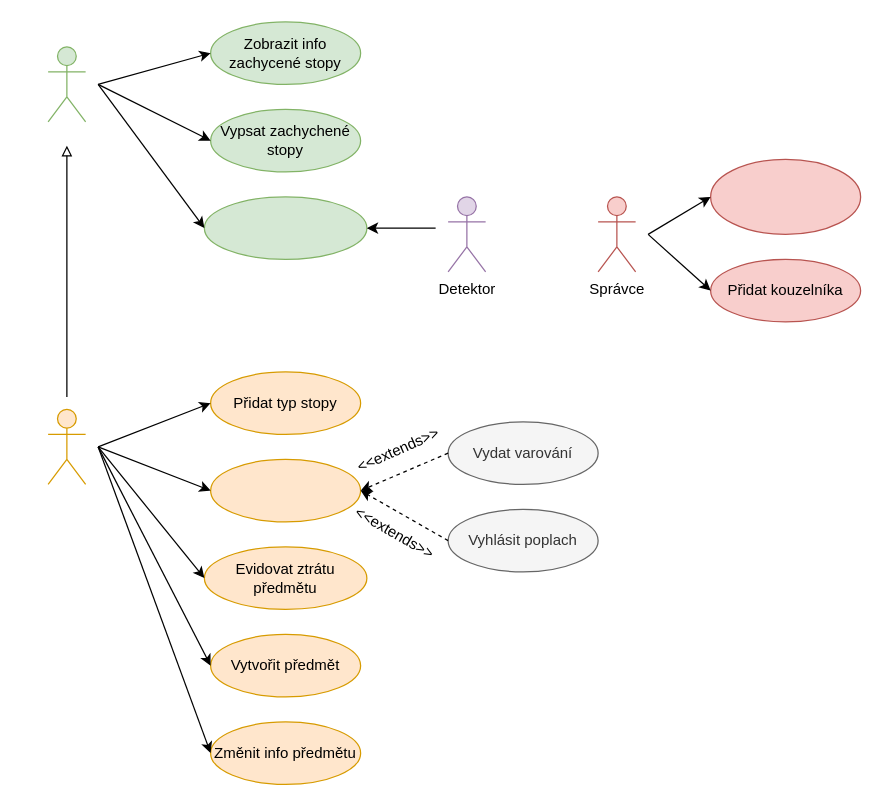
This 883x806 diagram has some shape labels left out. Each missing label, with the centre of its shape:
Evidovat zachycenou stopu: the point at 285,227
Evidovat získání předmětu: the point at 285,490
Kouzelník: the point at 66,84
Zaměstnanec ministerstva: the point at 66,446
Změnit osobní údaje kouzelníka: the point at 785,196
